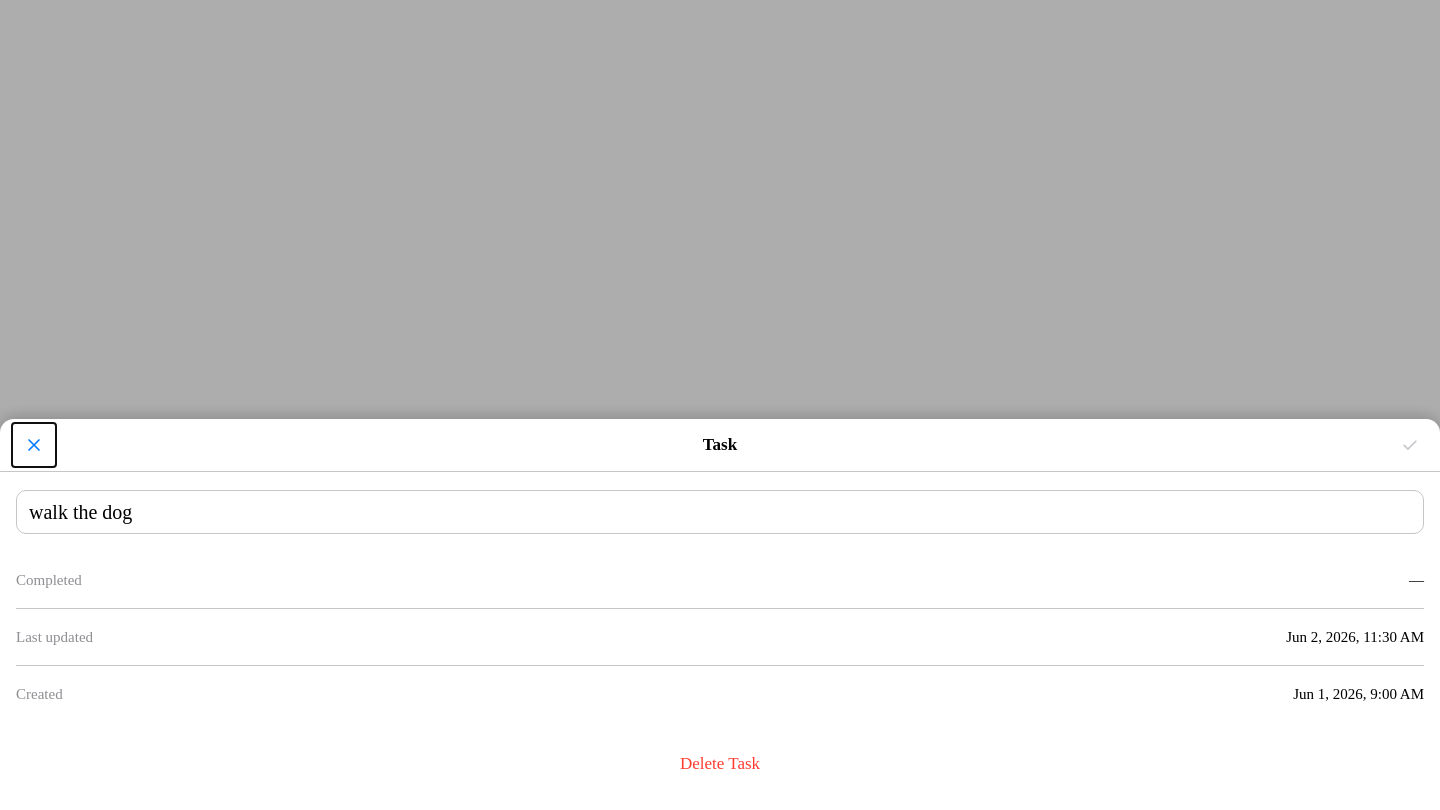
Scenario: TaskItemDrawer (Unit) › retires the arming when the title is edited
Click the button "Delete Task".
click(720, 764)  # box 655,742 -> 785,786
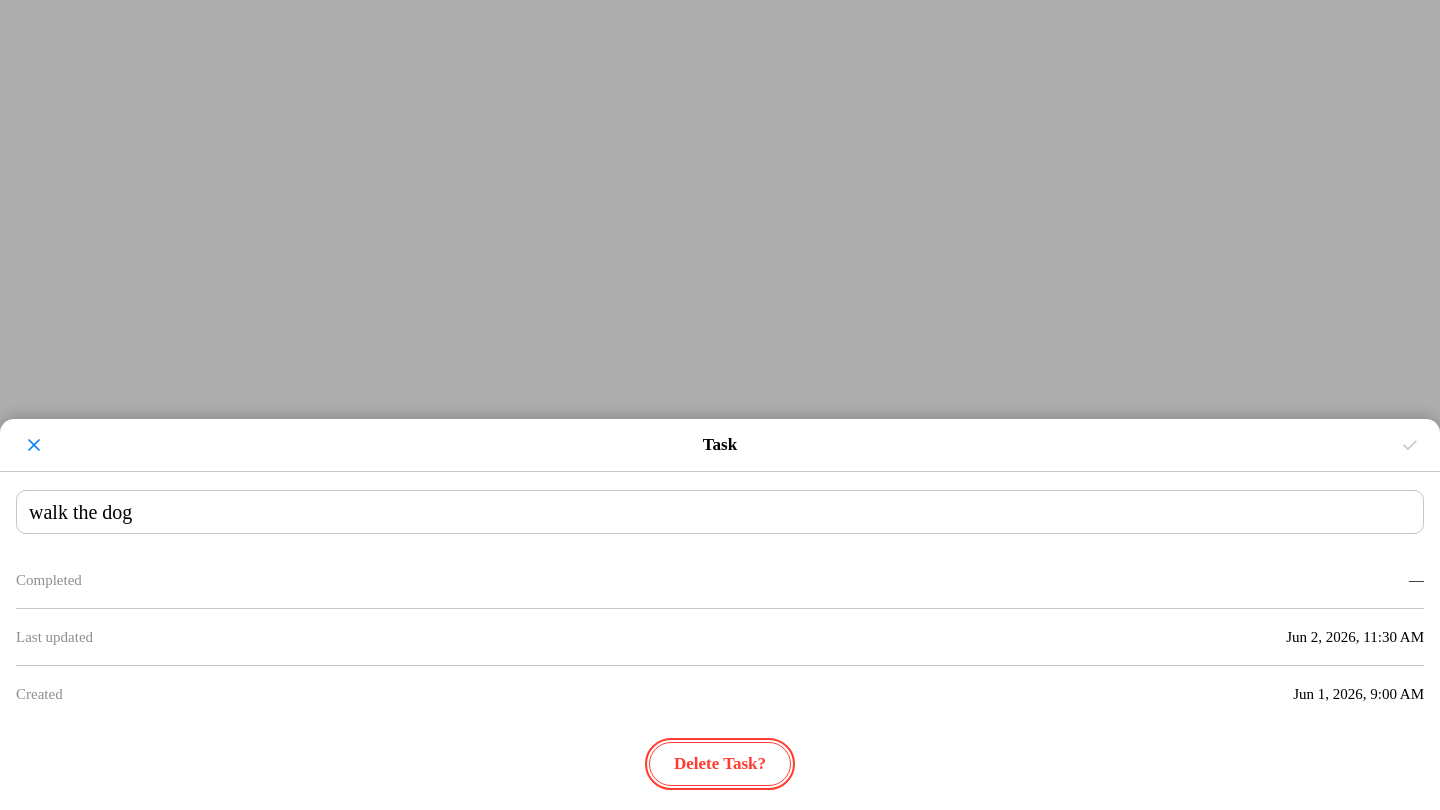
Type "!" into the field named "title".
click(720, 512); type("!")  # box 16,490 -> 1424,534
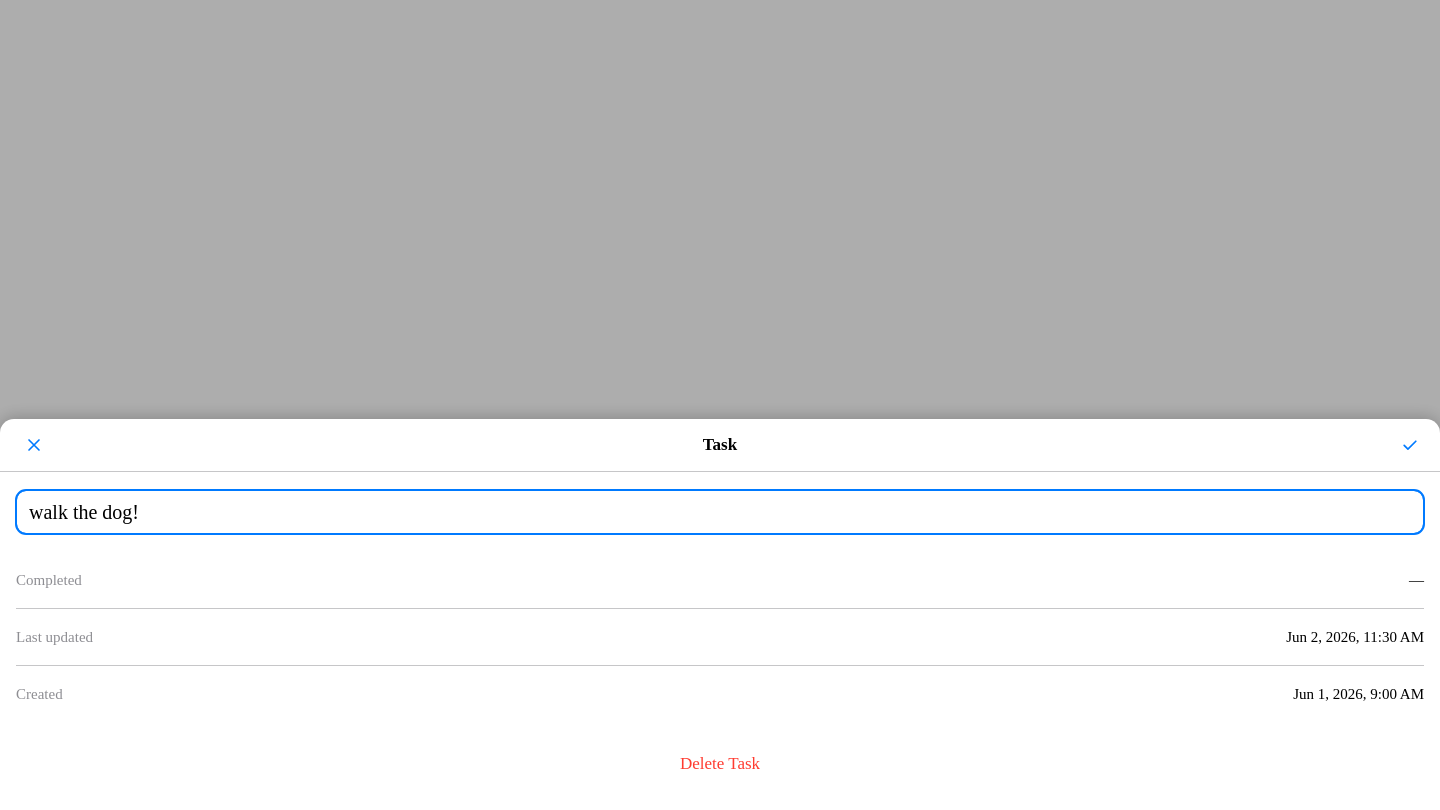
Now the button "Delete Task" is shown, box 655,742 -> 785,786
